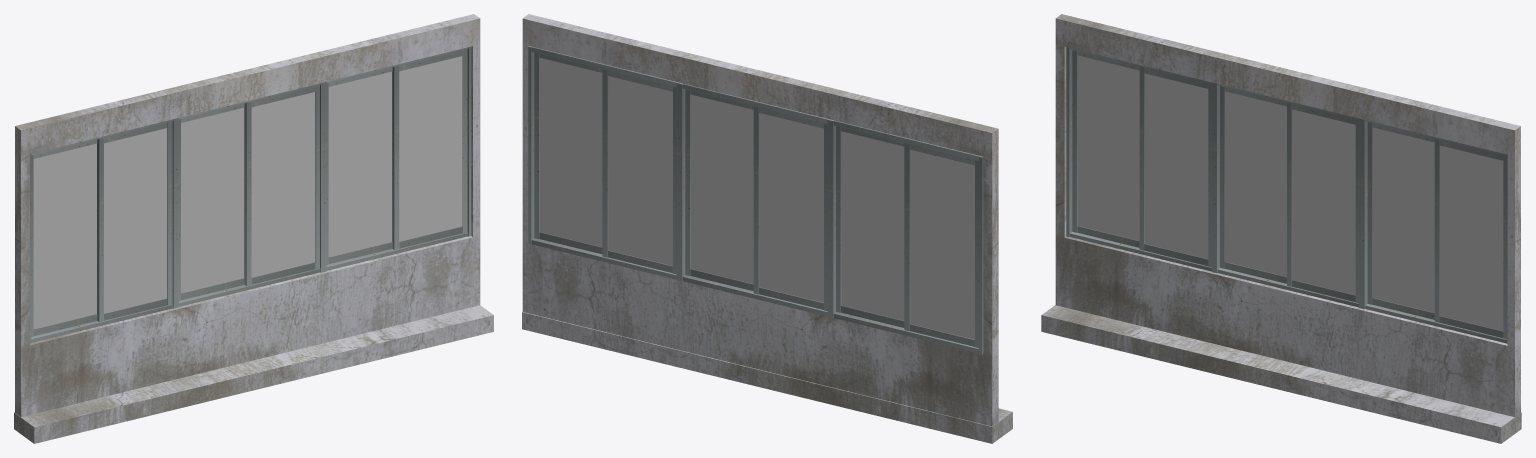
The model's file is shop_f_null09a.fbx.
3 views of the same model, side by side, from view 1: azimuth 30°, elevation 25°; view 2: azimuth 150°, elevation 25°; view 3: azimuth 330°, elevation 25° (orthographic). The views are drawn at different scales.
Visible parts, largest first — view 1: shop_f_null09a; view 2: shop_f_null09a; view 3: shop_f_null09a.
Part boxes in pixels (x1,y1,x2,y2): shop_f_null09a: (14,14,493,443); shop_f_null09a: (522,14,1012,443); shop_f_null09a: (1041,14,1521,443).
Bounding box in the file's own units: 5.4 × 3.41 × 0.4234.
